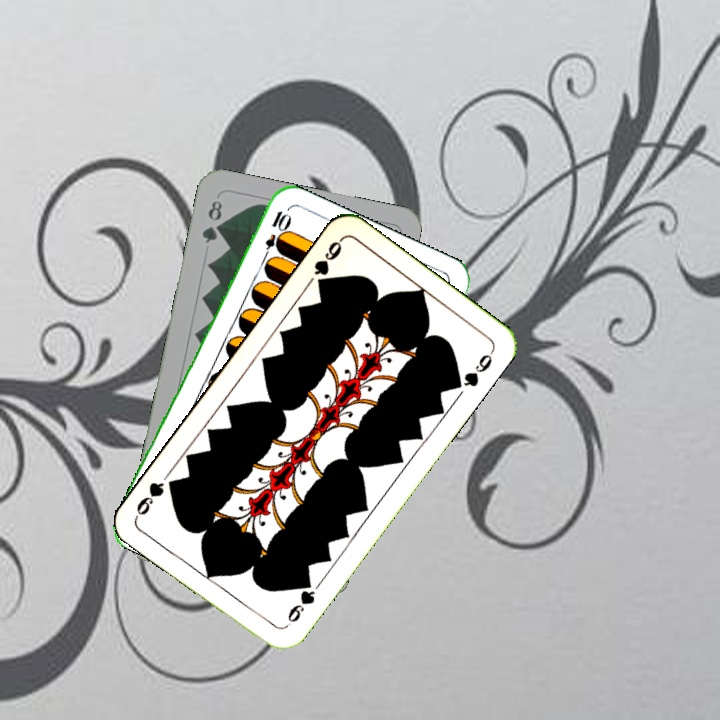E10: (258, 206, 291, 264)
G8: (197, 196, 225, 246)
G9: (281, 575, 323, 630), (309, 234, 345, 291)
